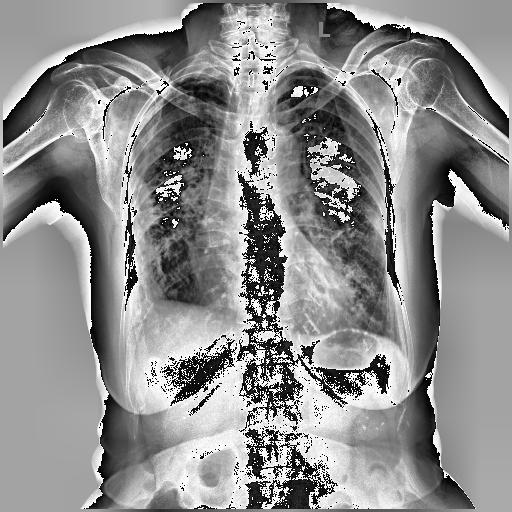0- Aortic enlargement: (248, 120, 302, 194), (247, 128, 299, 188), (252, 125, 300, 185)
10- Pleural effusion: (120, 290, 218, 350), (120, 274, 170, 360), (122, 284, 153, 334)
11- Pleural thickening: (110, 166, 154, 342), (122, 157, 154, 317), (120, 274, 170, 360), (122, 284, 153, 334), (158, 76, 218, 100), (170, 65, 230, 82), (280, 60, 332, 76), (174, 72, 218, 80)
3- Cardiomegaly: (189, 245, 354, 330), (201, 276, 364, 328)
5- ILD: (128, 78, 228, 305), (296, 162, 396, 329)
6- Infiltration: (137, 118, 182, 156)
7- Lung Opacity: (137, 118, 182, 156)
